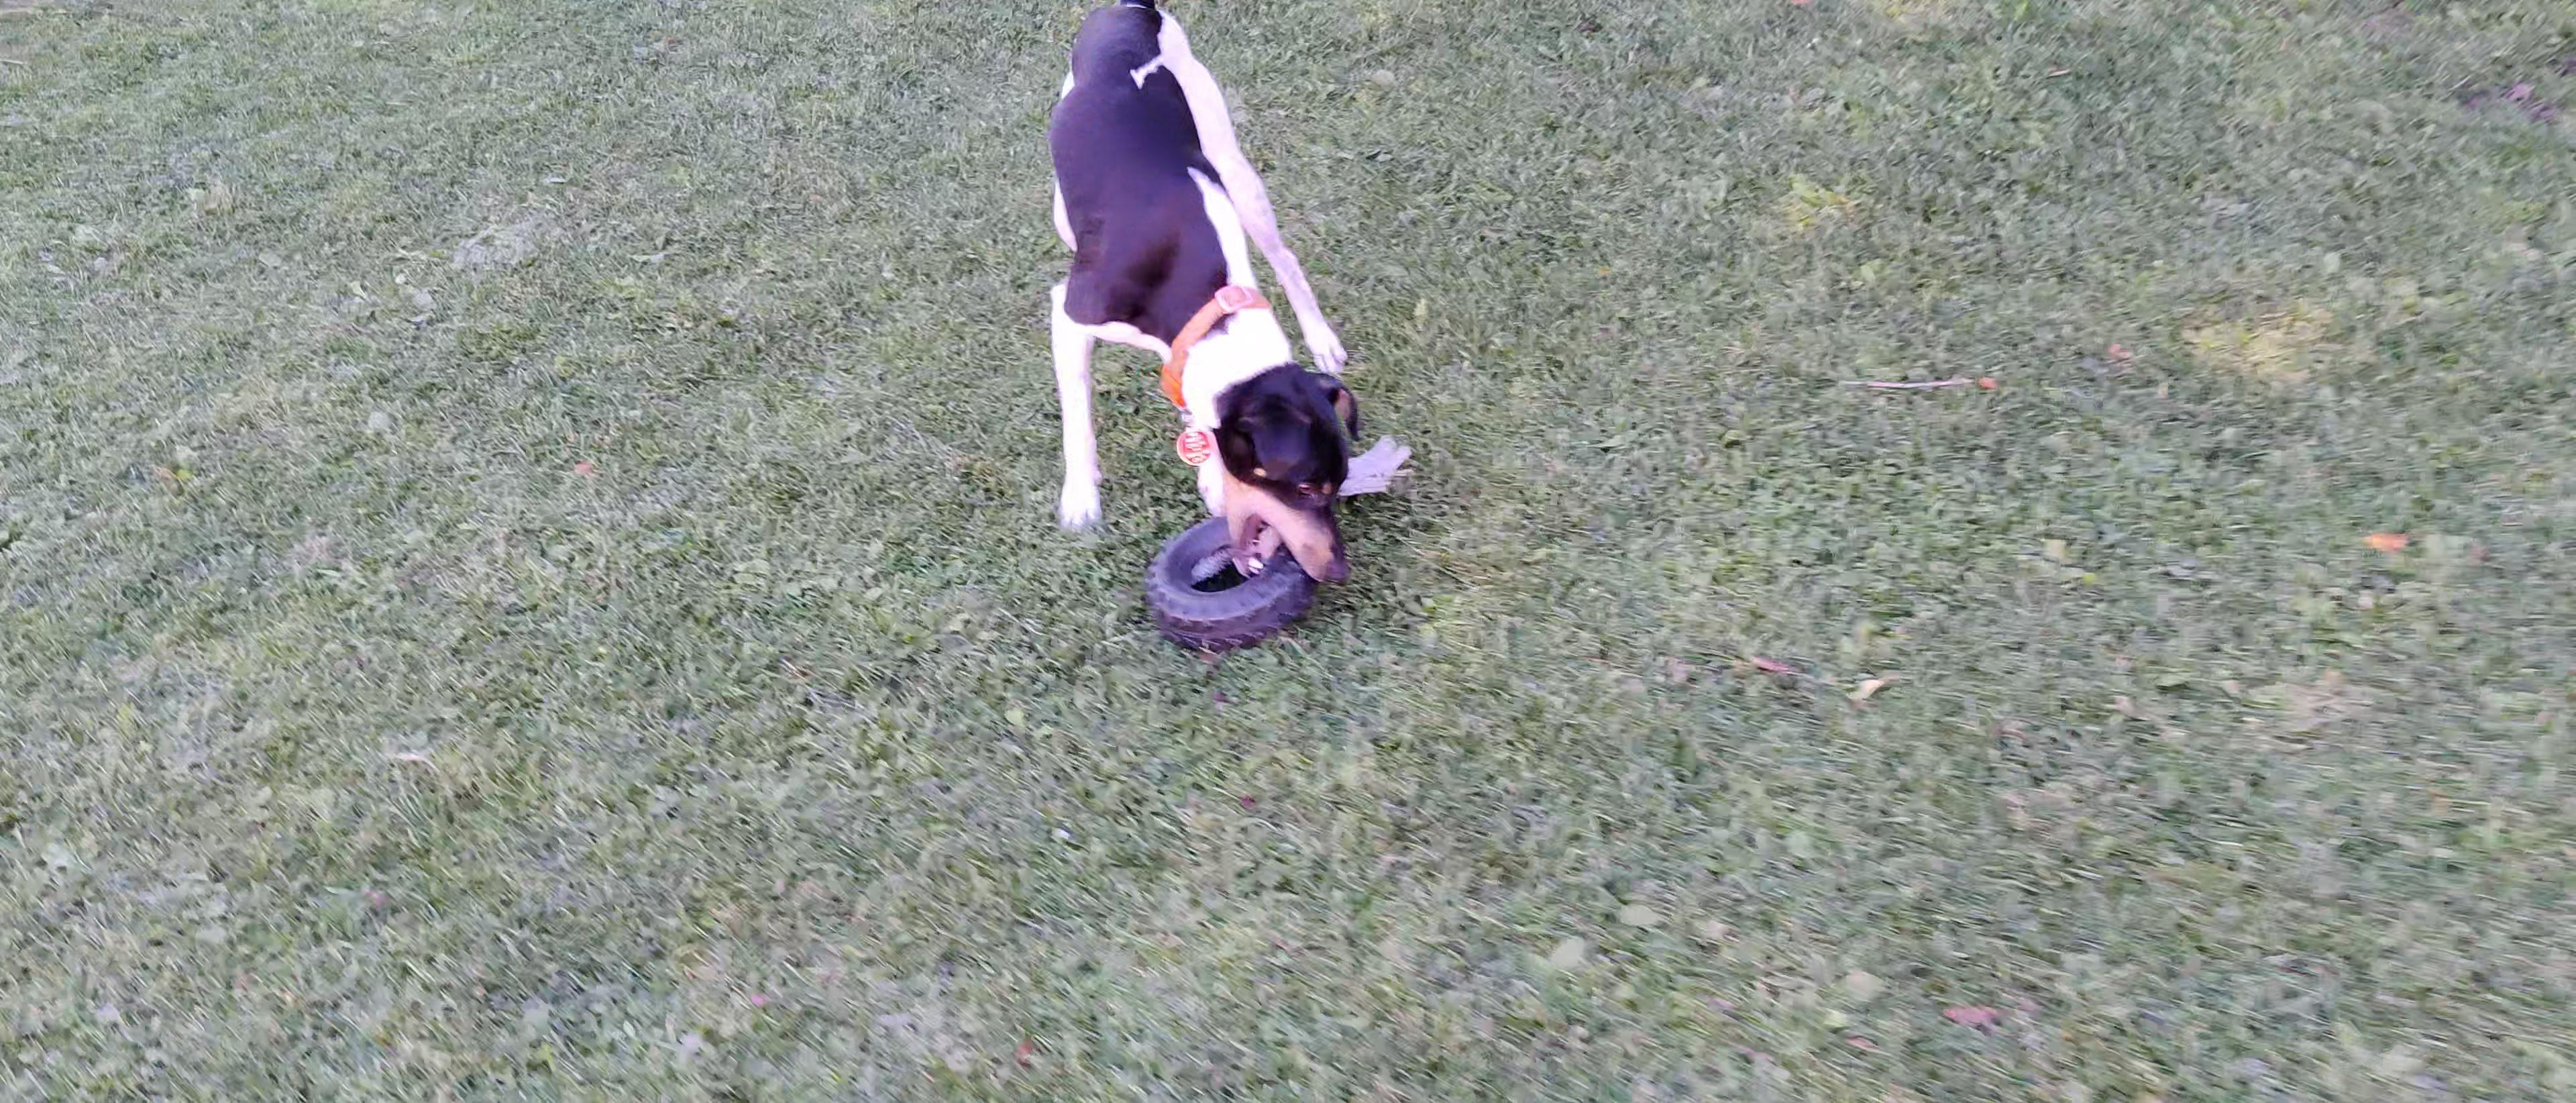Dog: (1037, 0, 1368, 598)
